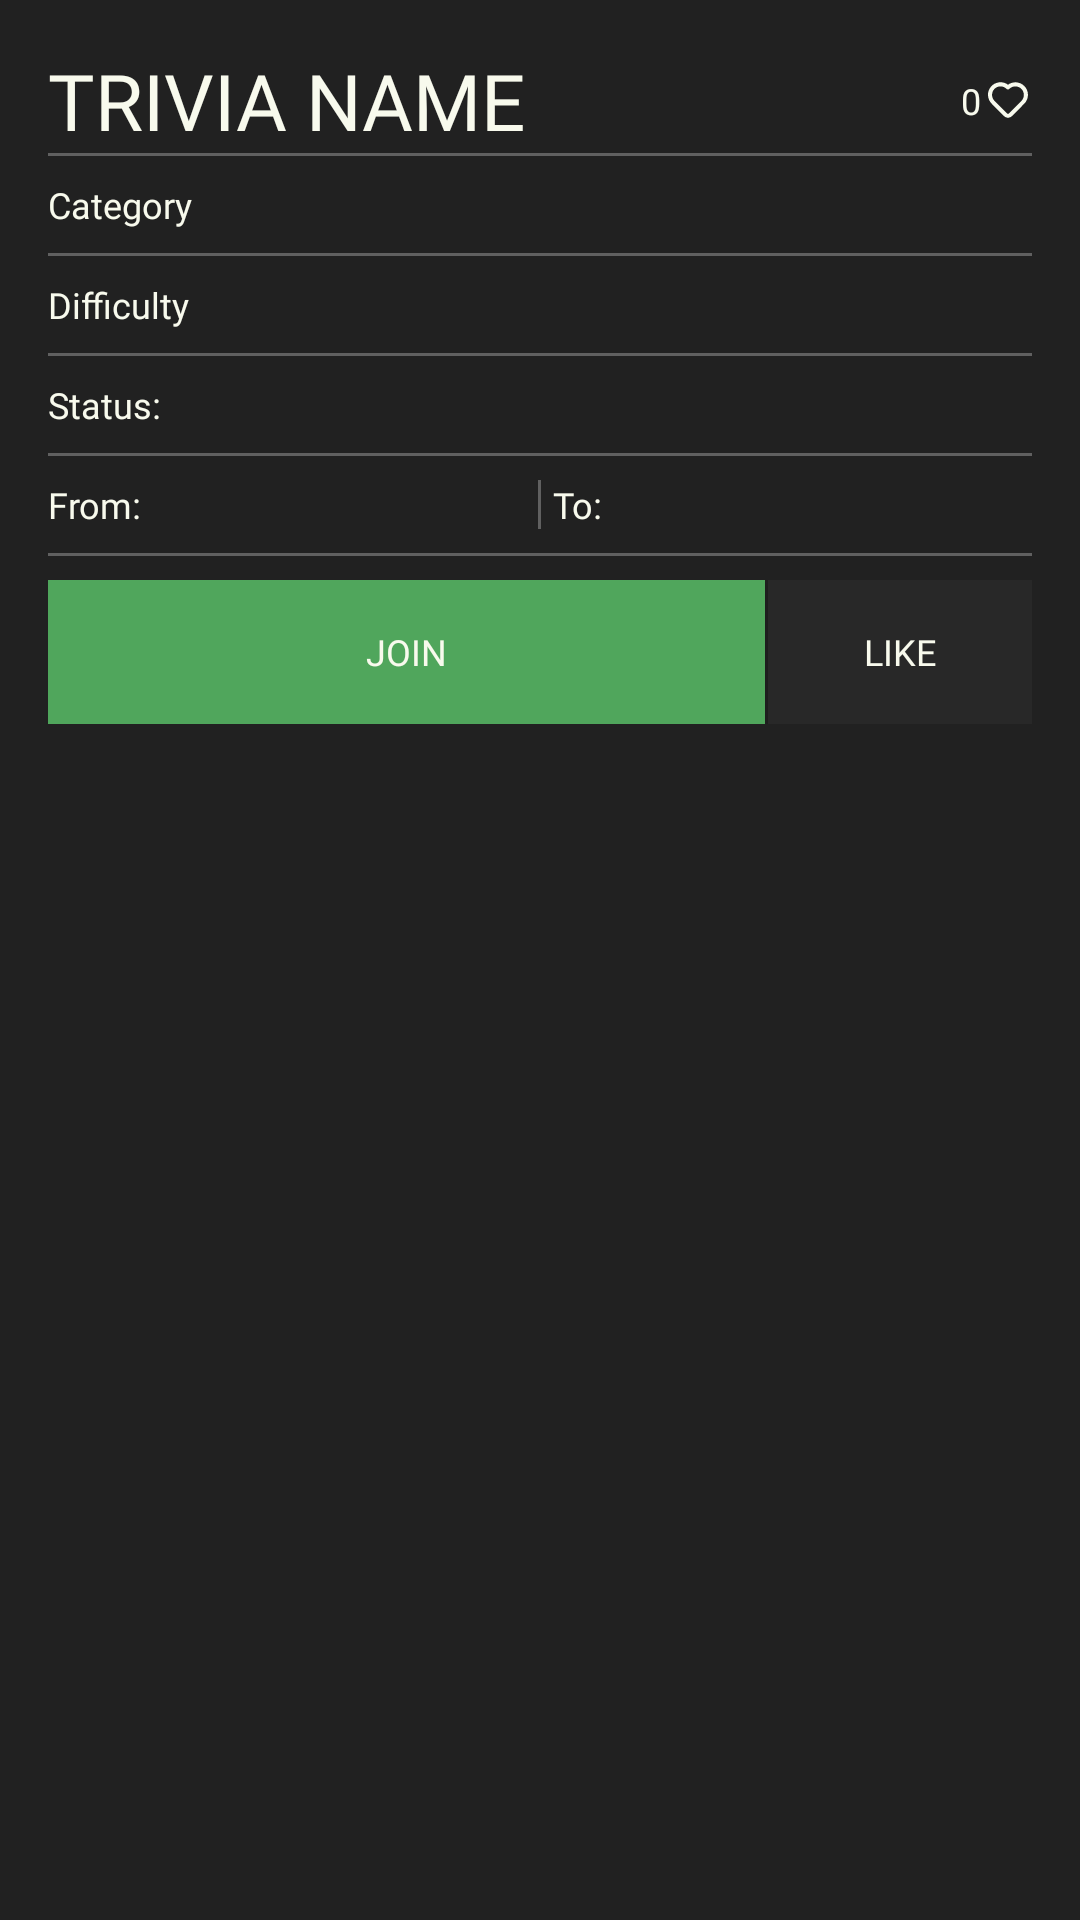

Screen size 1080w x 1920h. Icon name, then its box in pixels as box(x1, y1, x2, y2):
heart: box(988, 82, 1028, 118)
